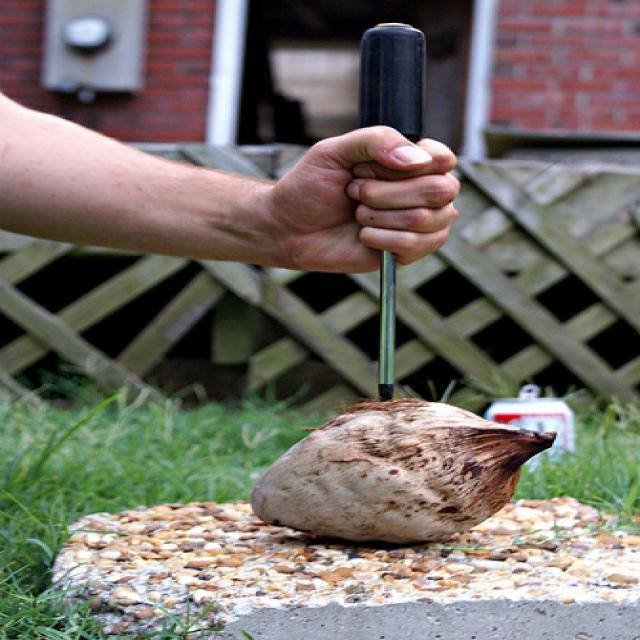screwdriver: (344, 16, 434, 404)
